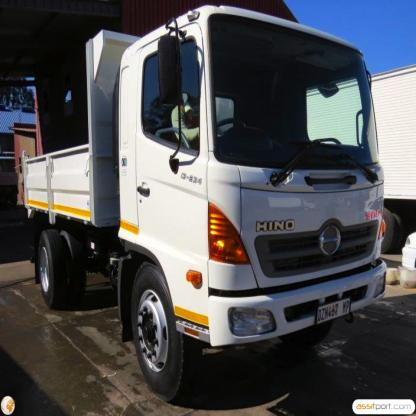dump_truck: (11, 11, 388, 409)
